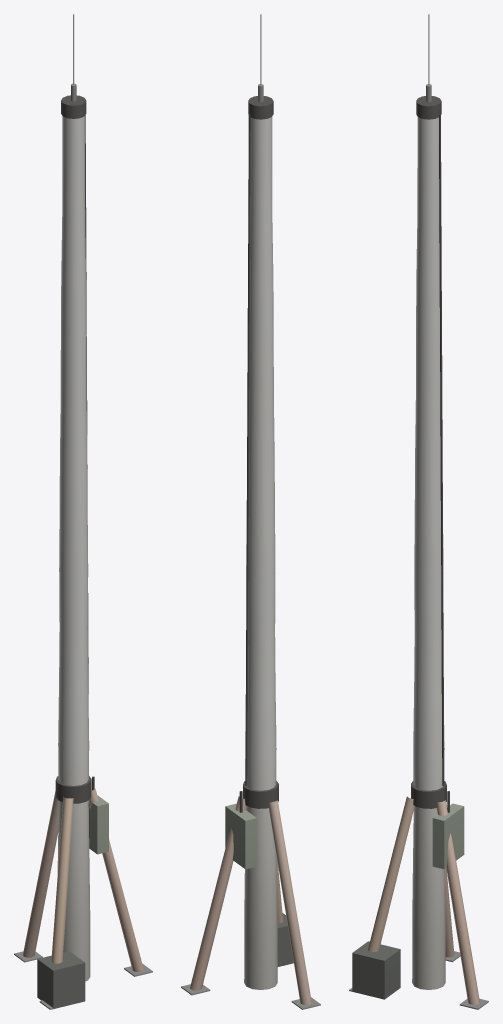
The model's file is campMast_wood.glb.
3 views of the same model, side by side, from view 1: azimuth 30°, elevation 25°; view 2: azimuth 210°, elevation 25°; view 3: azimuth 330°, elevation 25° (orthographic).
Visible parts, largest first — view 1: campMast_wood; view 2: campMast_wood; view 3: campMast_wood.
Part boxes in pixels (<box>): campMast_wood: <box>14,14,152,1009</box>; campMast_wood: <box>181,14,320,1009</box>; campMast_wood: <box>349,14,488,1009</box>.
Size of the model in its own units: 1 by 8.01 by 0.9876.
